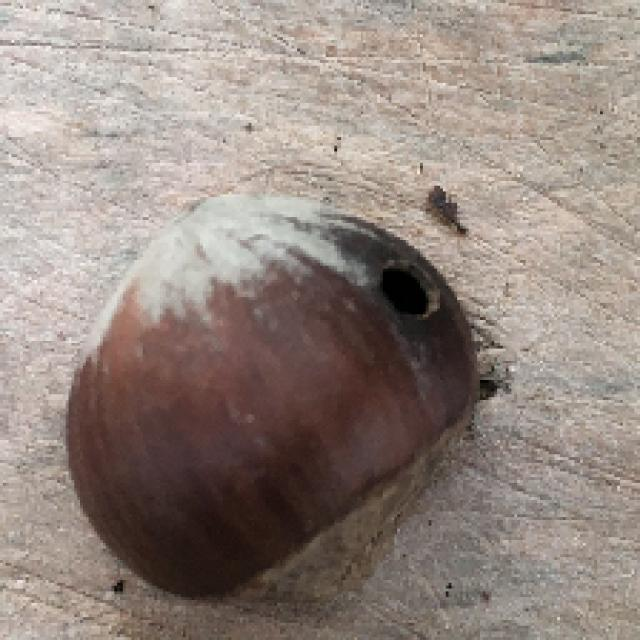damagedHazelnut: (68, 183, 486, 608)
